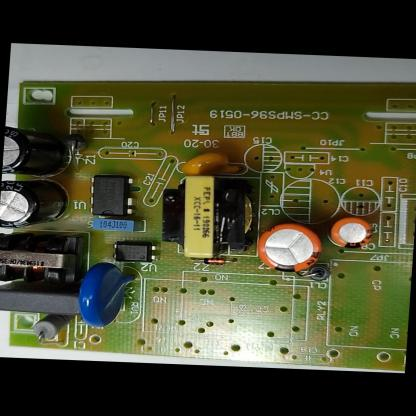Cap1: (254, 220, 325, 274)
Cap2: (328, 215, 374, 250)
Cap3: (0, 177, 72, 233)
Cap4: (2, 124, 73, 180)
MOSFET: (86, 174, 134, 218)
Mov: (75, 260, 139, 330)
Resistor: (32, 314, 72, 342)
Transformer: (160, 174, 260, 258), (0, 230, 84, 288)
